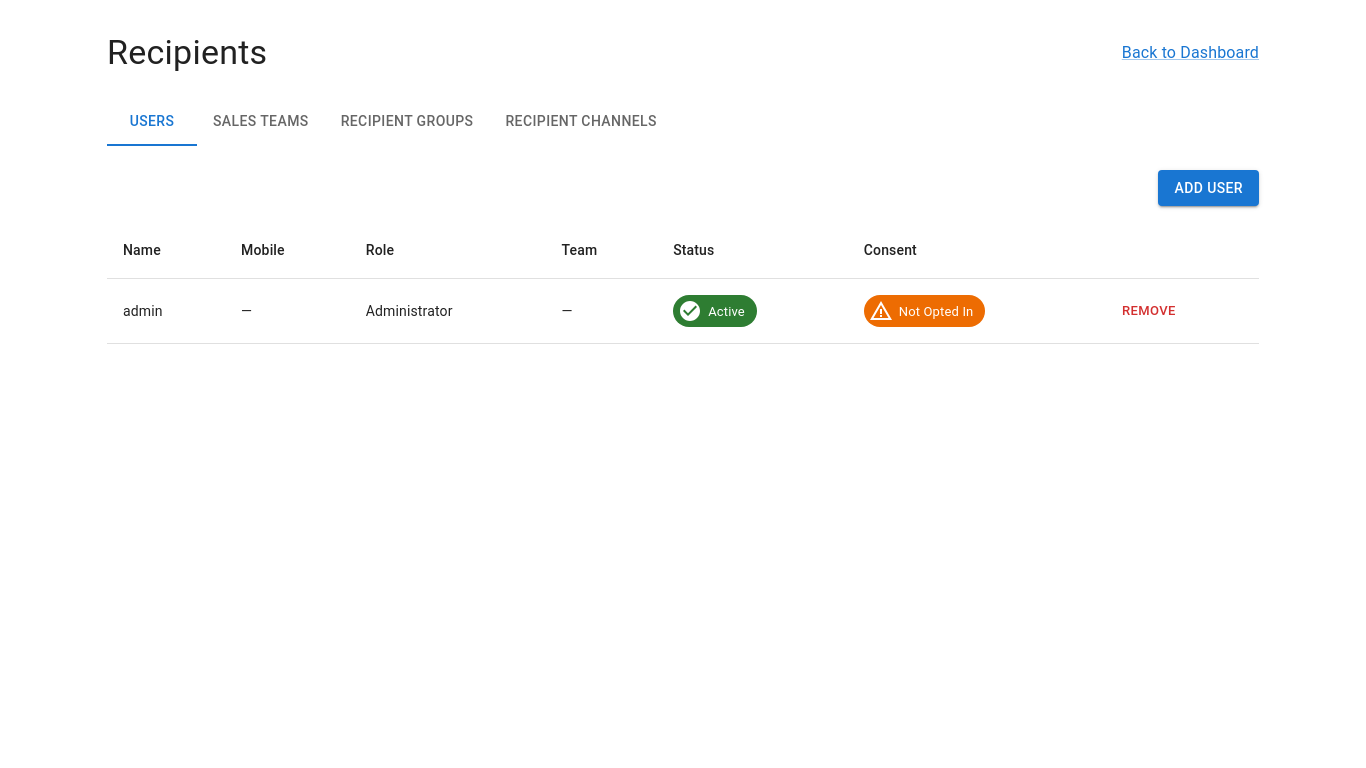
Test: RecipientsPage › clears actionError when switching into the Recipient Groups tab
Expected: the text "admin" is shown, [107,279,225,344]
What coordinates should you click on to do the following:
click the button "Remove"
I would click on:
 (1149, 312)
Its box is [1117,296,1181,327].
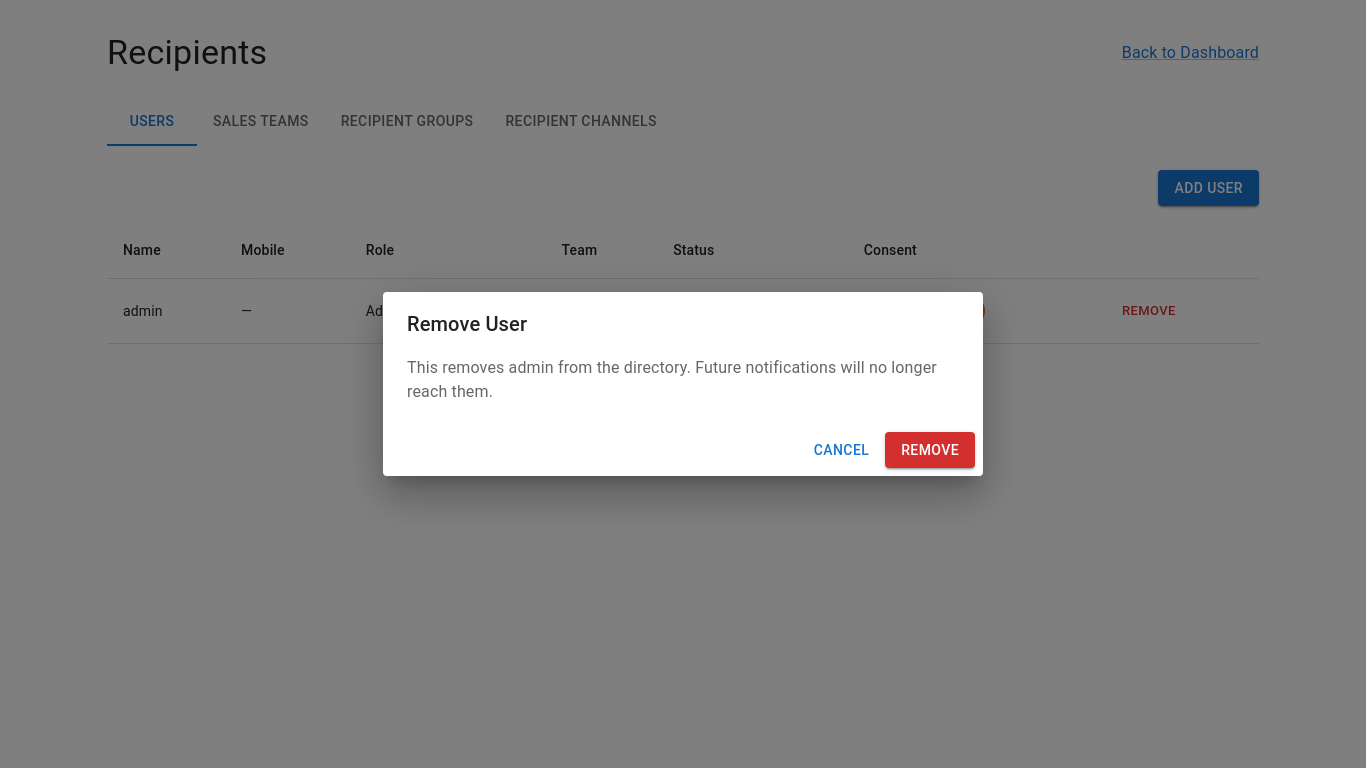
What coordinates should you click on to do the following:
click the button "Remove"
I would click on:
 (930, 450)
Its box is [885,432,975,468].
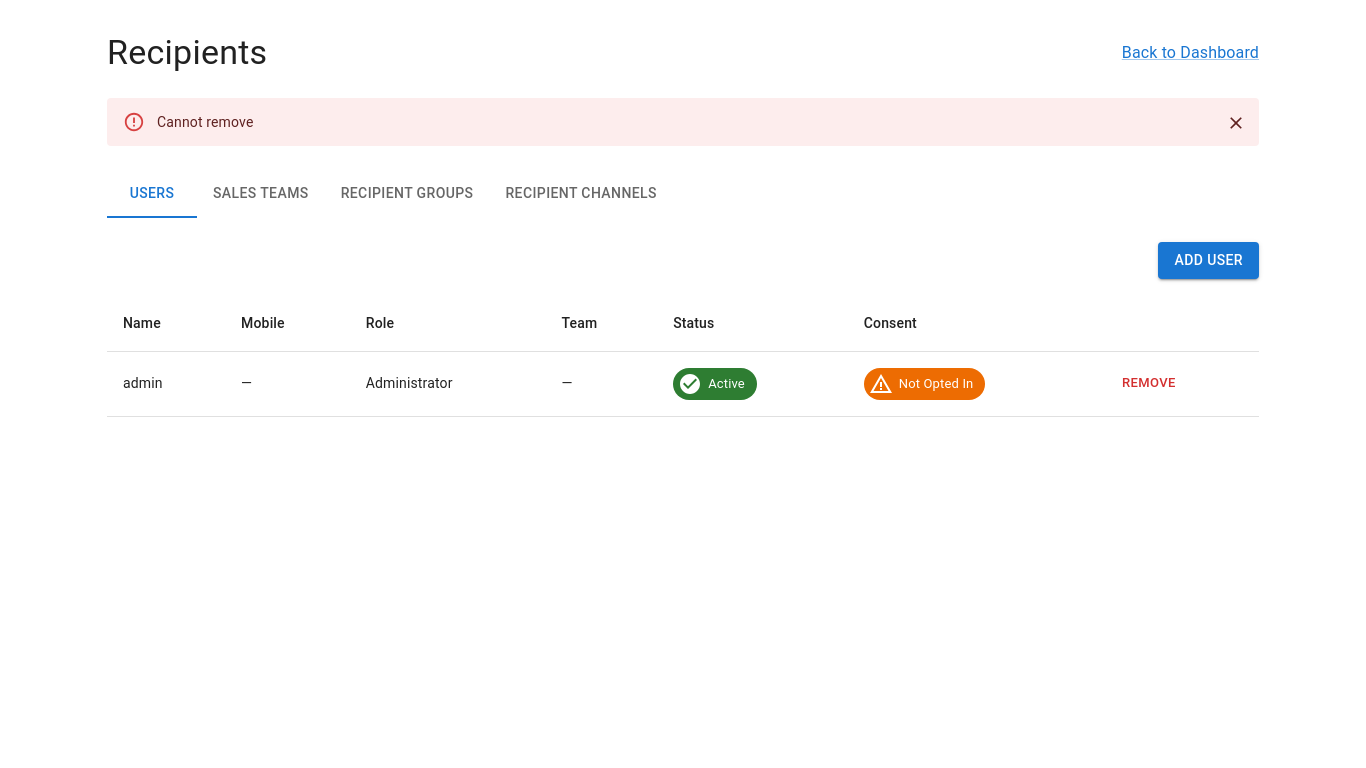
Expected: the text "Cannot remove" is shown, [157,114,254,130]
Expected: the dialog is gone
What coordinates should you click on to do the following:
click the tab "Recipient Groups"
I would click on:
 (407, 194)
Its box is [325,170,490,218].
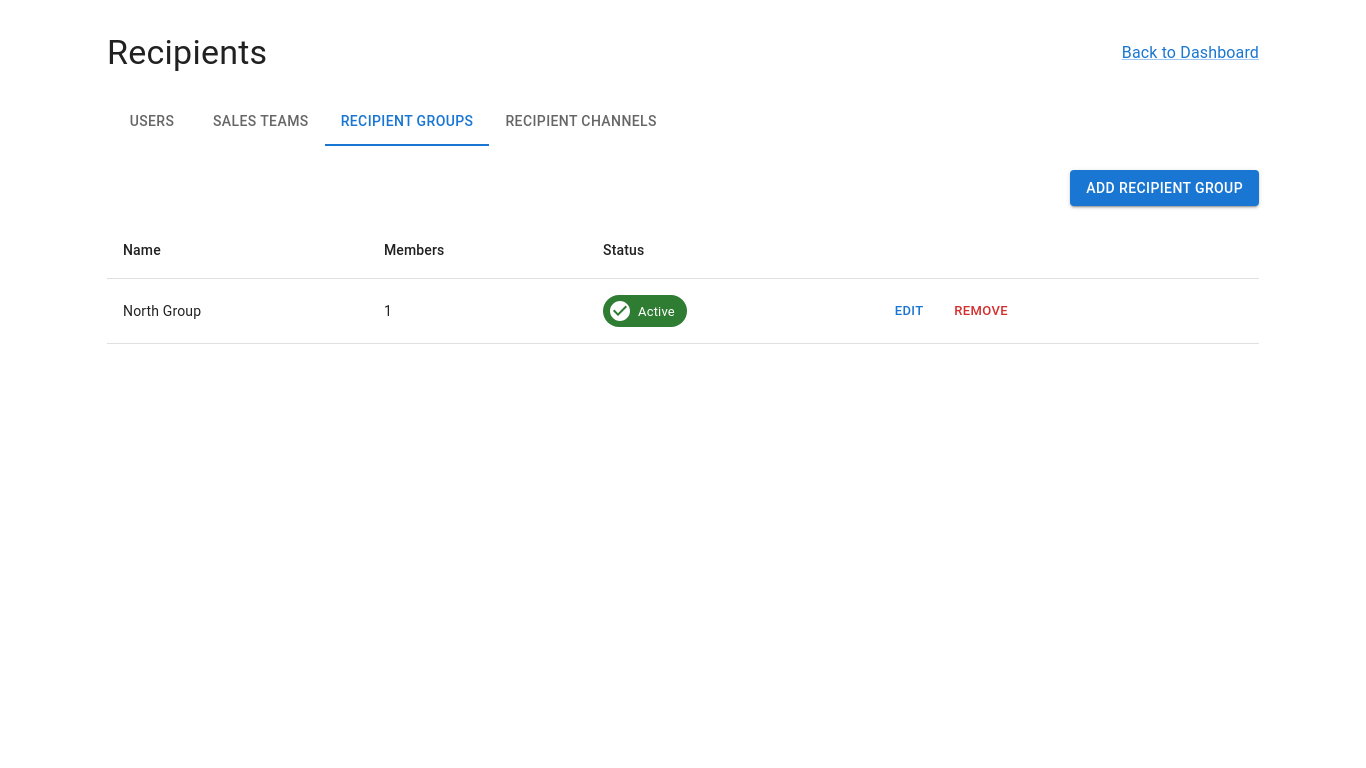
Expected: the text "Cannot remove" is gone
